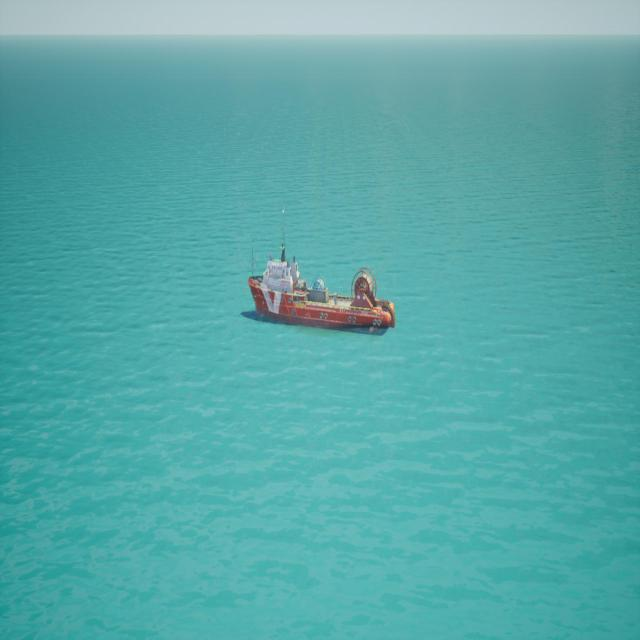tug boat: (245, 207, 401, 341)
